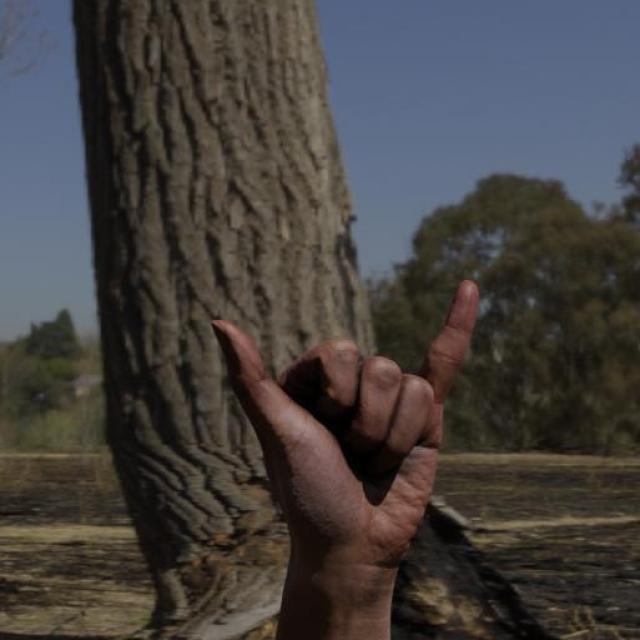Y: (206, 275, 484, 574)
